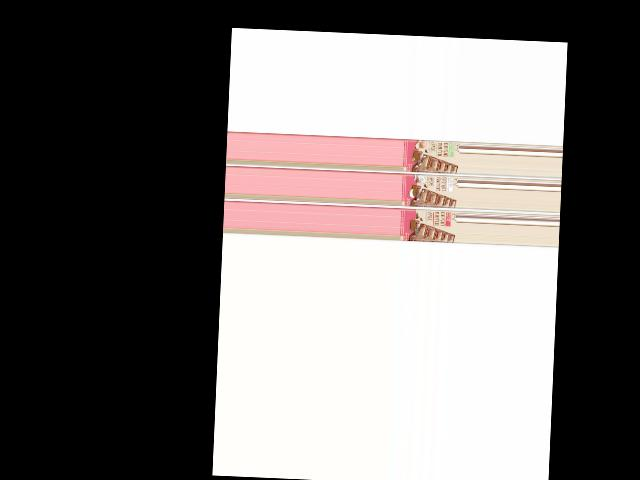chocolate: (402, 137, 459, 173)
